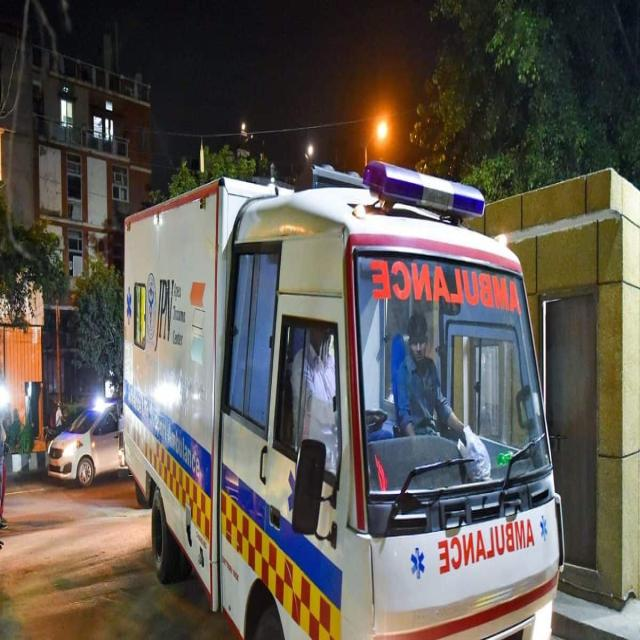car: (48, 400, 125, 487)
emergency: (125, 162, 564, 639)
